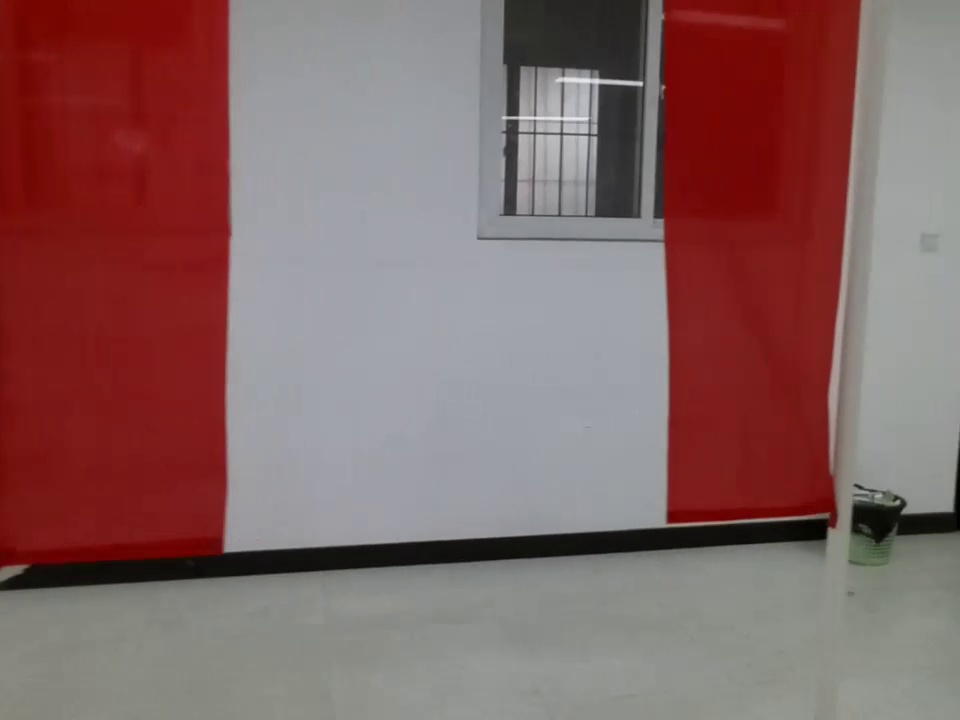qi: (1, 1, 230, 593), (660, 3, 852, 577)
